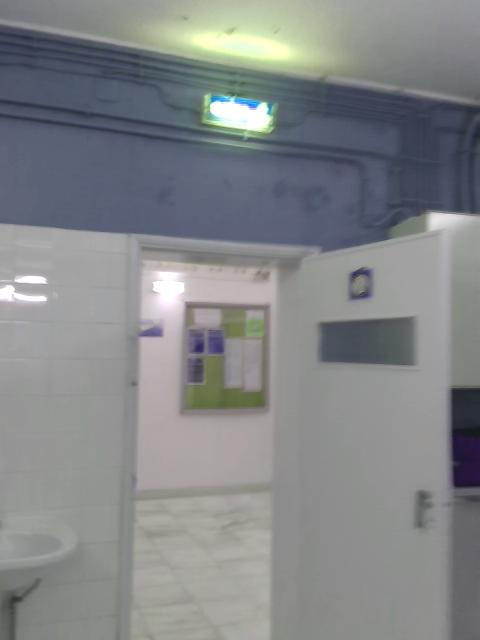open_door: (121, 229, 321, 639)
